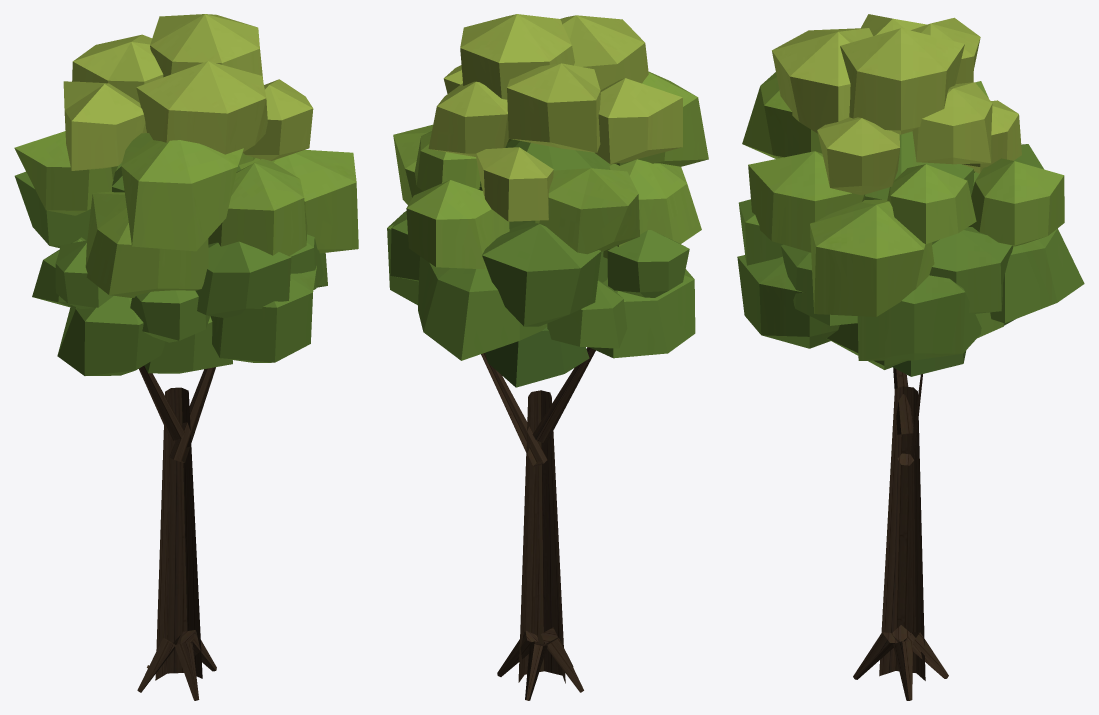
The model's file is tree_broadleaf_03.glb.
3 renders of one model, left to right at view 1: azimuth 30°, elevation 25°; view 2: azimuth 150°, elevation 25°; view 3: azimuth 270°, elevation 25°, orthographic.
Visible parts, largest first — view 1: tree_broadleaf_03; view 2: tree_broadleaf_03; view 3: tree_broadleaf_03.
Boxes of the visible parts, bbox=[...] form: tree_broadleaf_03: bbox=[14, 14, 358, 700]; tree_broadleaf_03: bbox=[387, 14, 708, 700]; tree_broadleaf_03: bbox=[737, 14, 1084, 700].
Bounding box in the file's own units: 3.62 × 7.83 × 3.69.
Materials: 5 (5 with a texture image).
